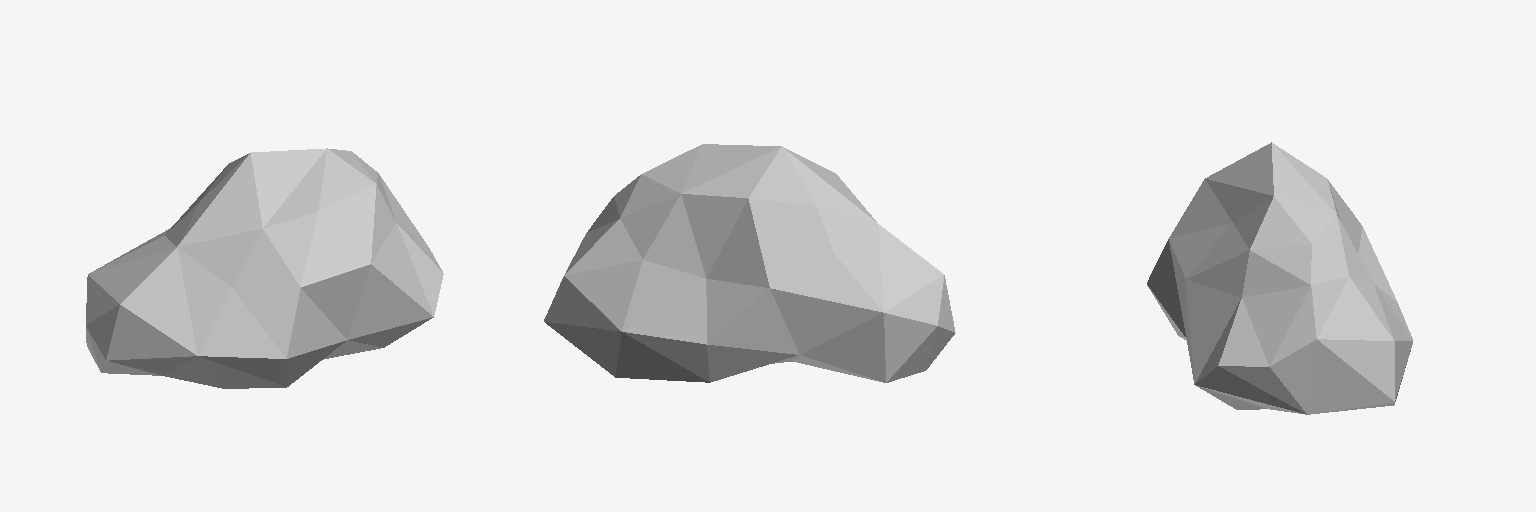
The model's file is rock1.obj.
3 renders of one model, left to right at view 1: azimuth 30°, elevation 25°; view 2: azimuth 150°, elevation 25°; view 3: azimuth 270°, elevation 25°, orthographic.
Visible parts, largest first — view 1: low_poly_rock_6; view 2: low_poly_rock_6; view 3: low_poly_rock_6.
Part boxes in pixels (left/top/right/bottom): low_poly_rock_6: left=86, top=148, right=443, bottom=388; low_poly_rock_6: left=544, top=144, right=955, bottom=382; low_poly_rock_6: left=1147, top=142, right=1412, bottom=414.
Size of the model in its own units: 1.82 by 1.12 by 1.24.